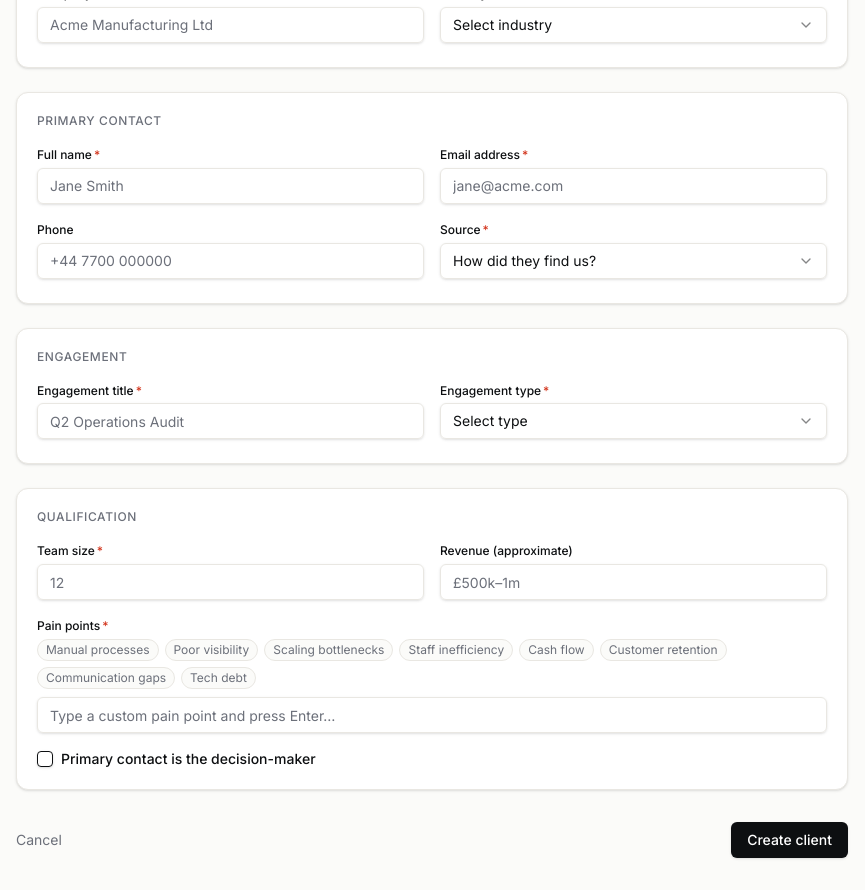
Test case: NewClientPage › adds custom pain point on Enter key
The image size is (865, 890).
(page scrolled)
Step 1. Type "Supply chain chaos" into the field with placeholder "Type a custom pain point and press Enter…" → (432, 715), box [37,697,827,733]
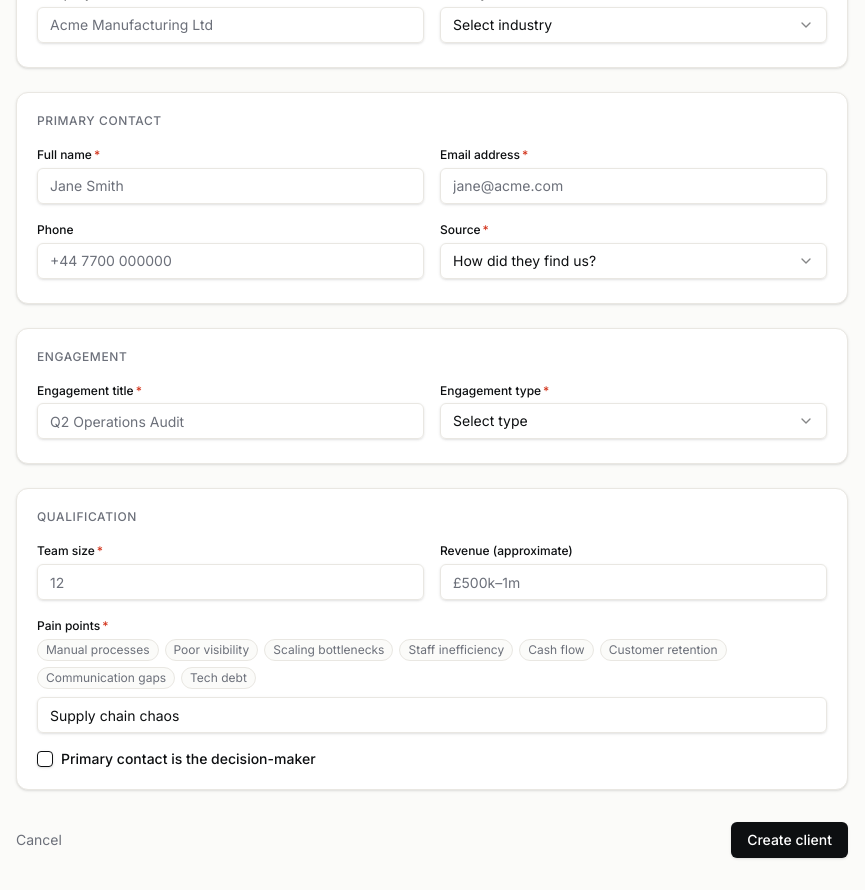
Step 2. Press Enter in the field with placeholder "Type a custom pain point and press Enter…", box [37,697,827,733]
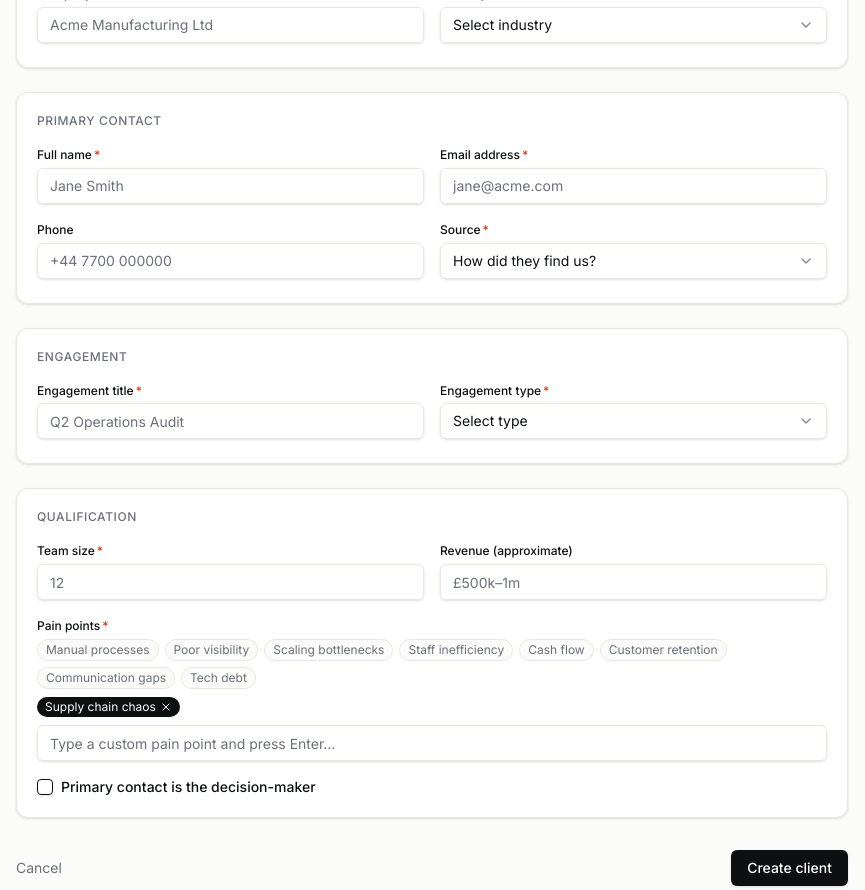
Expected: the text "Supply chain chaos" is shown, [37,697,180,717]
